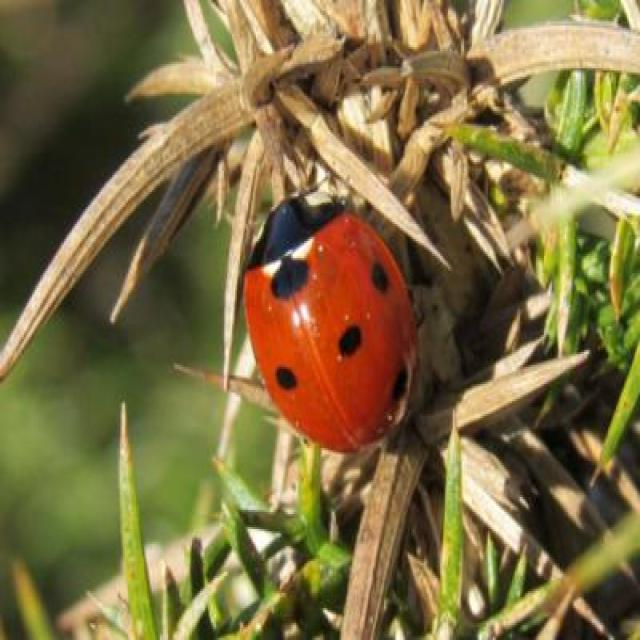body: (242, 198, 418, 455)
insect: (241, 198, 409, 451)
wings: (243, 215, 417, 453)
